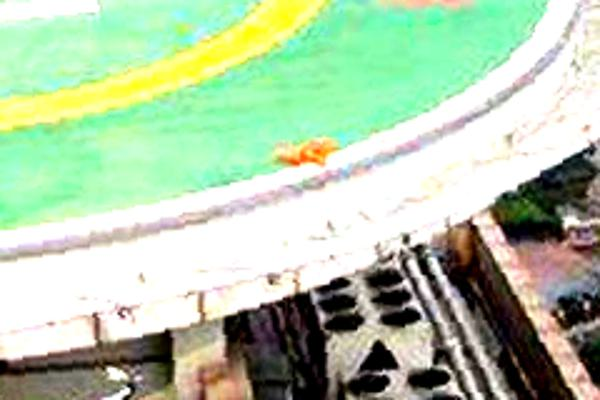Apron: (1, 1, 334, 136)
